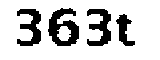3: (81, 5, 113, 52), (15, 8, 41, 49)
6: (46, 7, 81, 49)
t: (116, 14, 141, 52)
